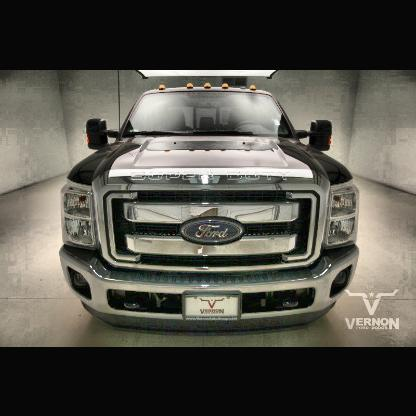Ford F-450 Super Duty Crew Cab 2012: (59, 83, 363, 332)
